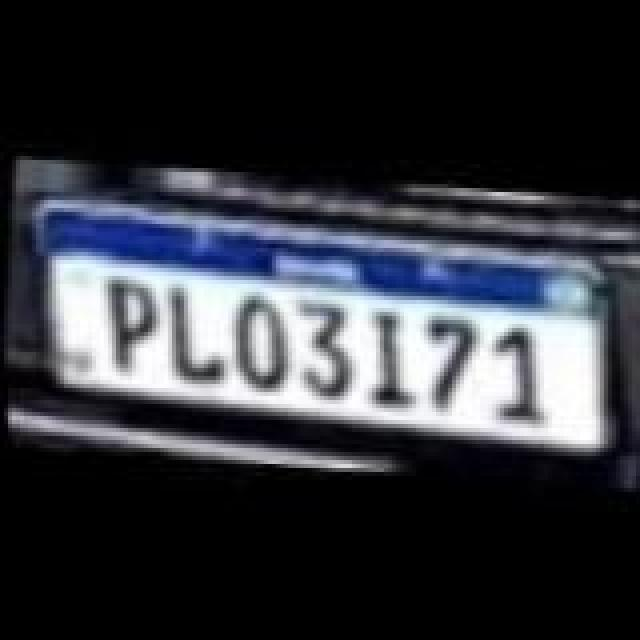1: (474, 312, 558, 428)
3: (276, 288, 360, 400)
7: (406, 304, 482, 416)
I: (348, 294, 428, 414)
L: (154, 274, 234, 390)
O: (222, 286, 294, 390)
P: (94, 270, 166, 374)
